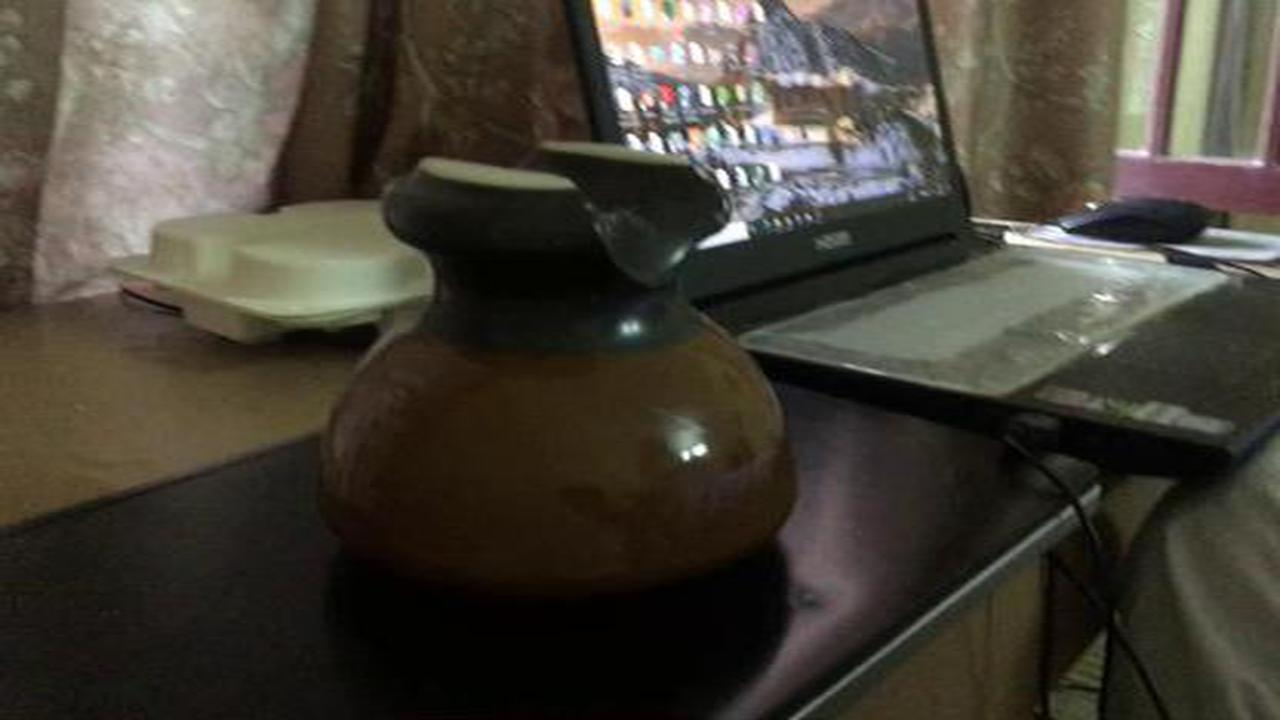insulator_pin: (293, 129, 828, 615)
